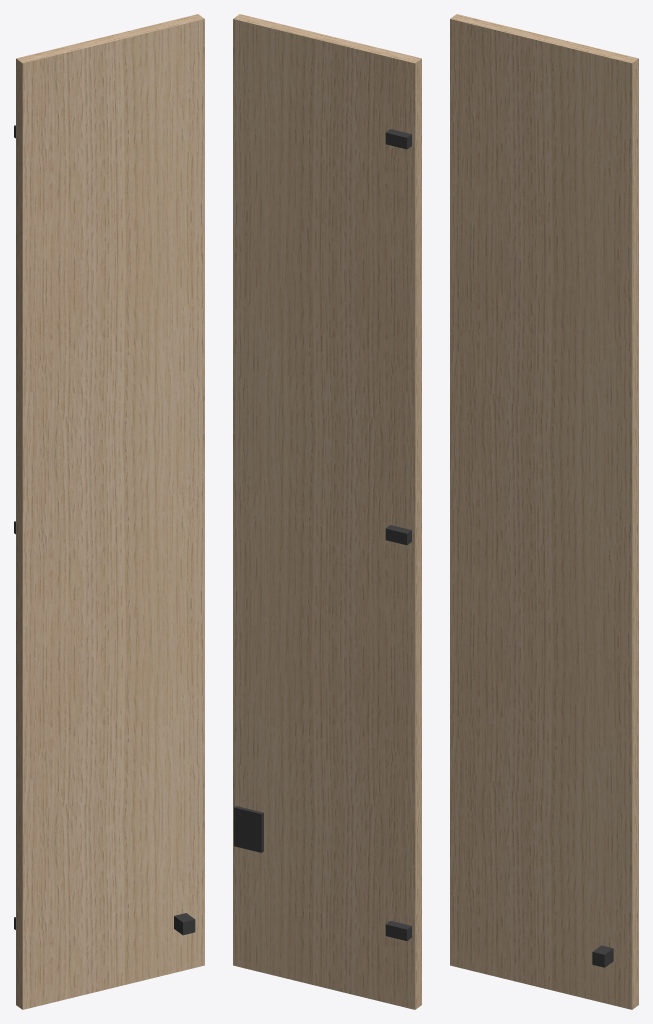
File: A_dor_ovre_venstre.glb
3 views of the same model, side by side, from view 1: azimuth 30°, elevation 25°; view 2: azimuth 150°, elevation 25°; view 3: azimuth 330°, elevation 25° (orthographic).
Parts seen in each view (by area): view 1: 2025-284 Resepsjon høyskap; view 2: 2025-284 Resepsjon høyskap; view 3: 2025-284 Resepsjon høyskap.
Boxes of the visible parts, x1,y1,x2,y2 form: 2025-284 Resepsjon høyskap: (14,14,204,1009); 2025-284 Resepsjon høyskap: (233,14,421,1009); 2025-284 Resepsjon høyskap: (450,14,638,1009).
Size of the model in its own units: 296 by 1467 by 58.
Materials: 2 (1 with a texture image).
